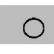no answer: (15, 14, 46, 40)
